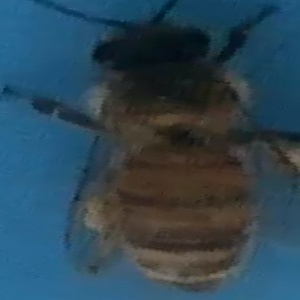bee: (27, 5, 295, 295)
